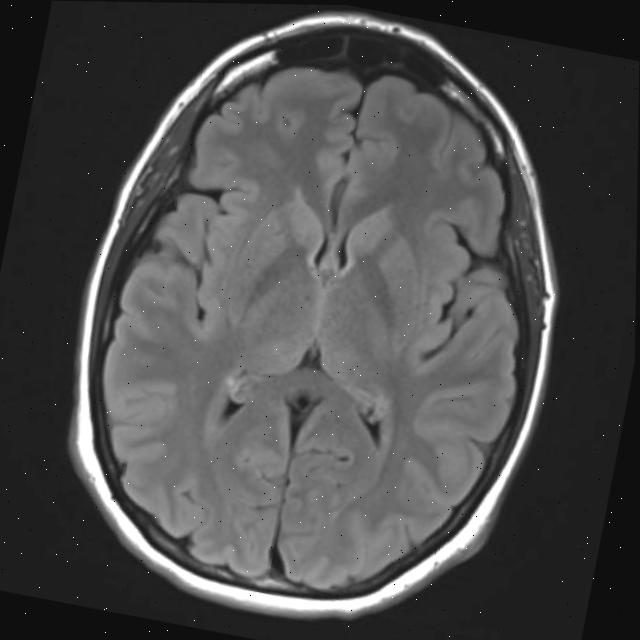NoTumor: (60, 22, 577, 629)
